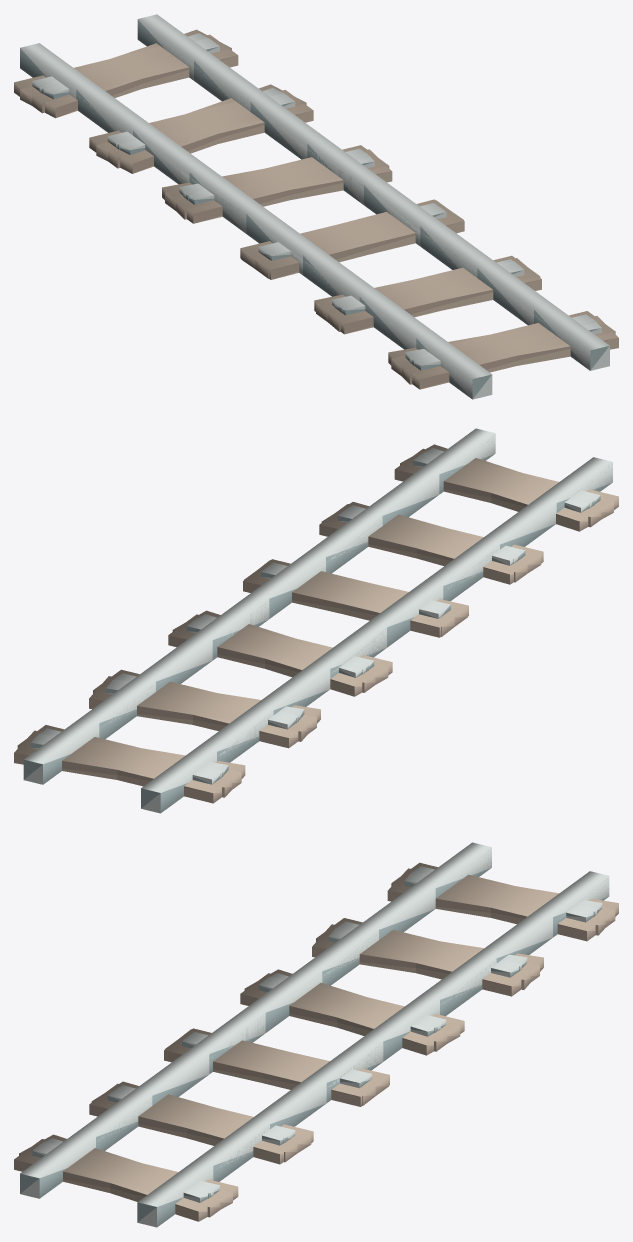
File: meridian-rails.glb
3 renders of one model, top to bottom at view 1: azimuth 30°, elevation 25°; view 2: azimuth 150°, elevation 25°; view 3: azimuth 330°, elevation 25°, orthographic.
Parts seen in each view (by area): view 1: railroad-straight, railroad-damaged-straight; view 2: railroad-straight, railroad-damaged-straight; view 3: railroad-straight, railroad-damaged-straight.
Boxes of the visible parts, x1=… form: railroad-straight: x1=14, y1=14, x2=615, y2=399; railroad-damaged-straight: x1=20, y1=25, x2=618, y2=398; railroad-straight: x1=17, y1=428, x2=618, y2=813; railroad-damaged-straight: x1=14, y1=434, x2=613, y2=797; railroad-straight: x1=14, y1=842, x2=615, y2=1227; railroad-damaged-straight: x1=19, y1=849, x2=618, y2=1221.
Size of the model in its own units: 1.03 by 0.1 by 4.
